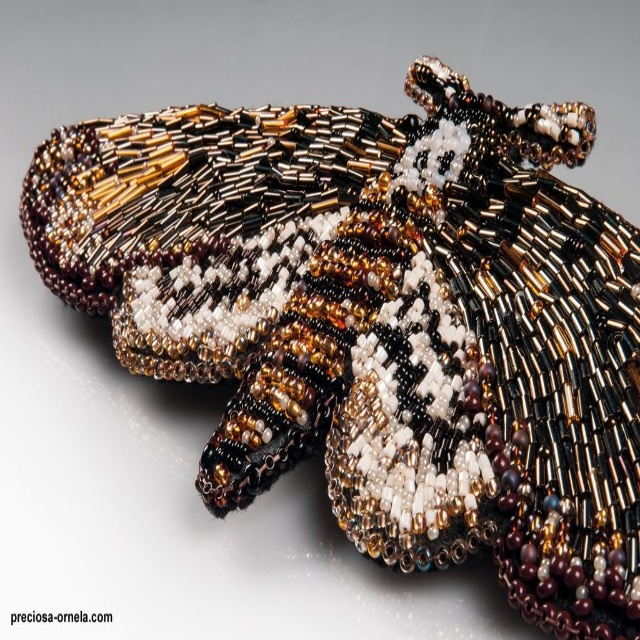Butterfly: (35, 104, 640, 562)
